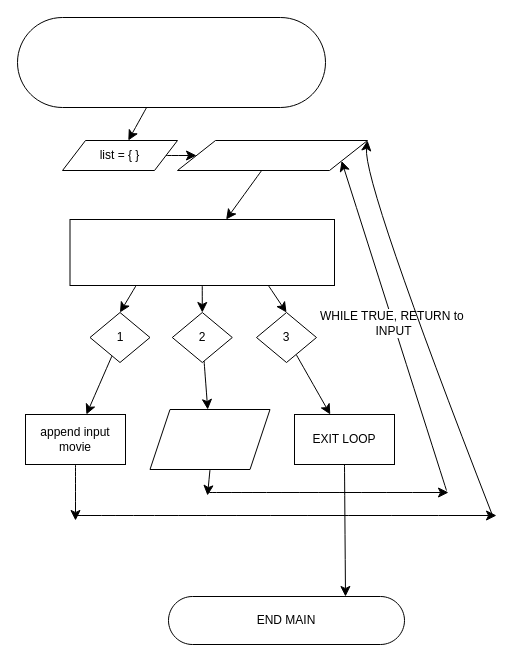
This 513x662 diagram has some shape labels left out. The shapes that lost their labels are listed below. From the top down, each one's centre as x and y in pixels, then its label:
(x=171, y=62): START MAIN
(x=272, y=155): input "choose an option: "
(x=201, y=252): Check choice 1. Add a movie 2. Display Movie recommendations 3. exit the program
(x=209, y=439): display movie list
